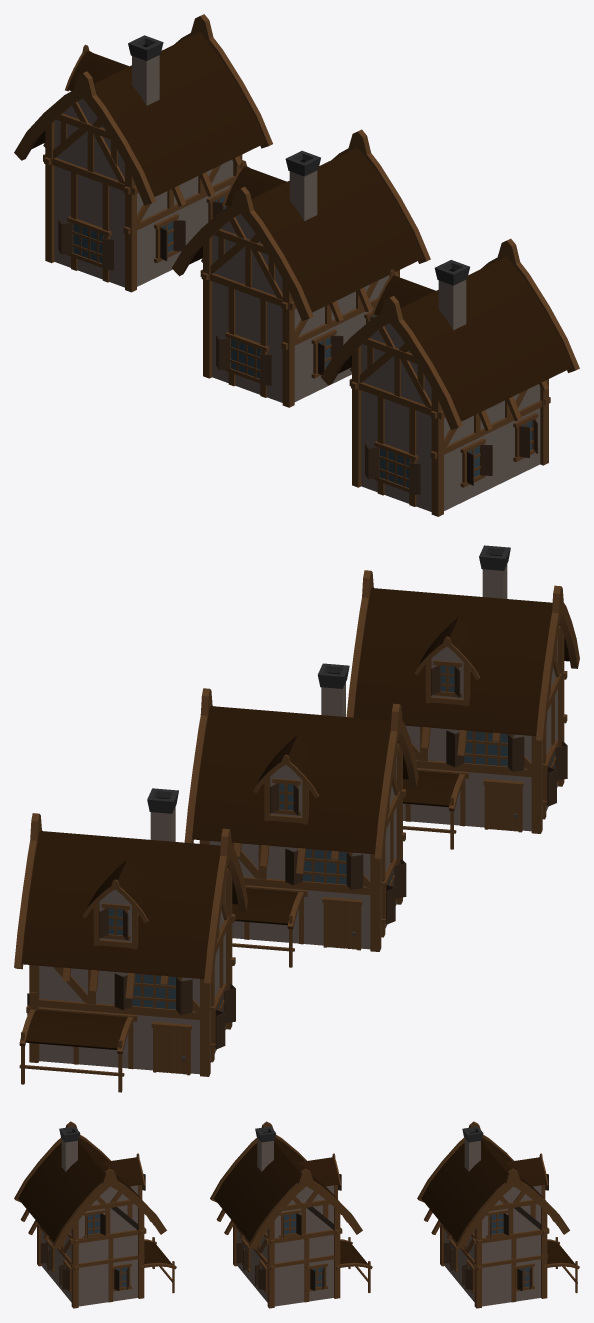
Rendered from houserow_norse.obj.
3 views of the same model, one above another, from view 1: azimuth 30°, elevation 25°; view 2: azimuth 150°, elevation 25°; view 3: azimuth 270°, elevation 25° (orthographic). The views are drawn at different scales.
Visible parts, largest first — view 1: pCube6453_Untitled.002, pCube6453_Untitled.004, pCube6453_Untitled.003; view 2: pCube6453_Untitled.004, pCube6453_Untitled.003, pCube6453_Untitled.002; view 3: pCube6453_Untitled.002, pCube6453_Untitled.004, pCube6453_Untitled.003.
Boxes of the visible parts, left/top/right/bottom form: pCube6453_Untitled.002: left=321, top=238, right=579, bottom=516; pCube6453_Untitled.004: left=14, top=14, right=272, bottom=292; pCube6453_Untitled.003: left=172, top=129, right=430, bottom=407; pCube6453_Untitled.004: left=14, top=788, right=247, bottom=1092; pCube6453_Untitled.003: left=184, top=663, right=418, bottom=967; pCube6453_Untitled.002: left=346, top=545, right=579, bottom=849; pCube6453_Untitled.002: left=14, top=1121, right=176, bottom=1308; pCube6453_Untitled.004: left=417, top=1121, right=579, bottom=1308; pCube6453_Untitled.003: left=210, top=1121, right=372, bottom=1308.
Size of the model in its own units: 12.15 by 12.69 by 44.57.
